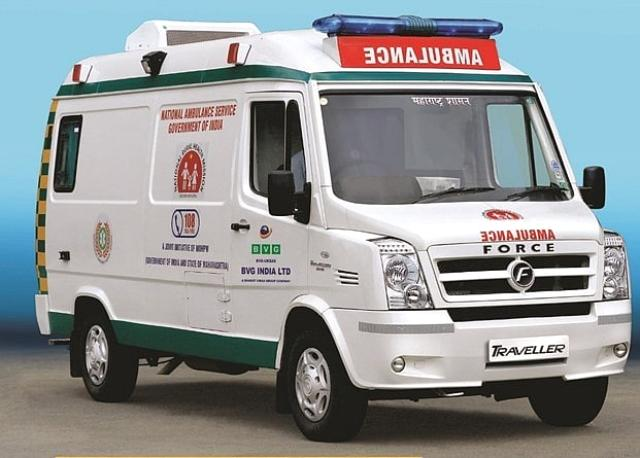ambulance: (29, 16, 632, 442)
